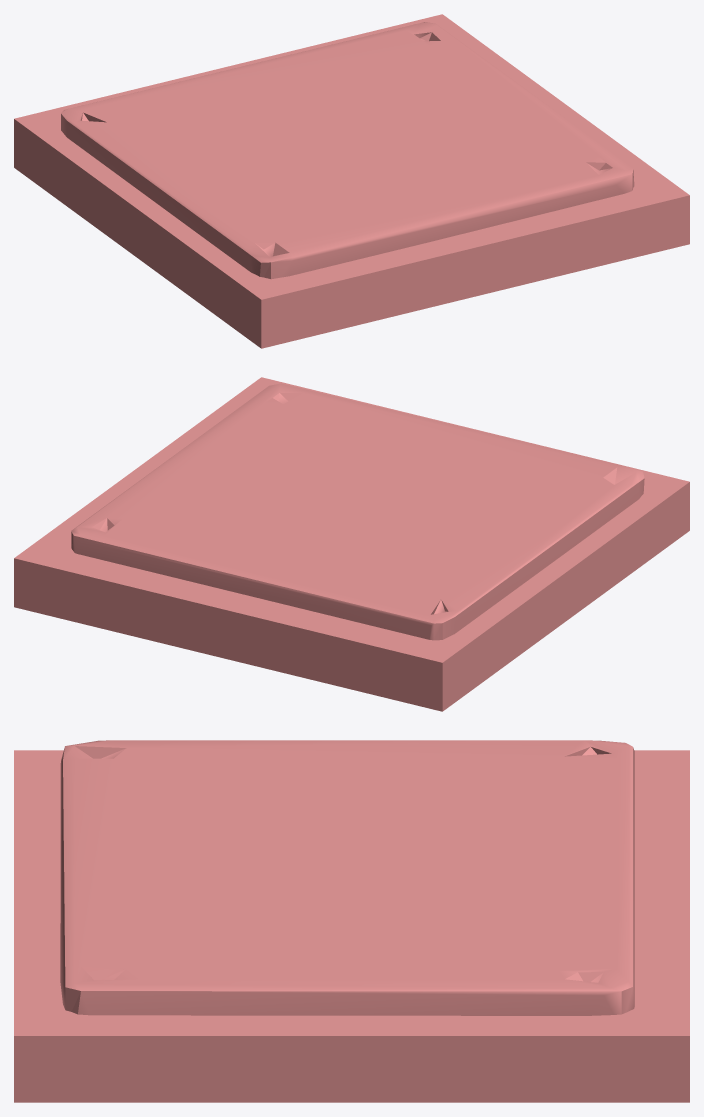
Rendered from ComplexWall_1x1_01_Final.fbx.
The picture shows the model from 3 angles, top to bottom: view 1: azimuth 30°, elevation 25°; view 2: azimuth 150°, elevation 25°; view 3: azimuth 270°, elevation 25°; orthographic projection. The views are drawn at different scales.
Visible parts, largest first — view 1: Final_ComplexWall_1x1_01; view 2: Final_ComplexWall_1x1_01; view 3: Final_ComplexWall_1x1_01.
Boxes of the visible parts, <box> form: Final_ComplexWall_1x1_01: <box>14,14,689,348</box>; Final_ComplexWall_1x1_01: <box>14,377,689,711</box>; Final_ComplexWall_1x1_01: <box>14,740,689,1102</box>.
Bounding box in the file's own units: 200 × 30.05 × 200.
